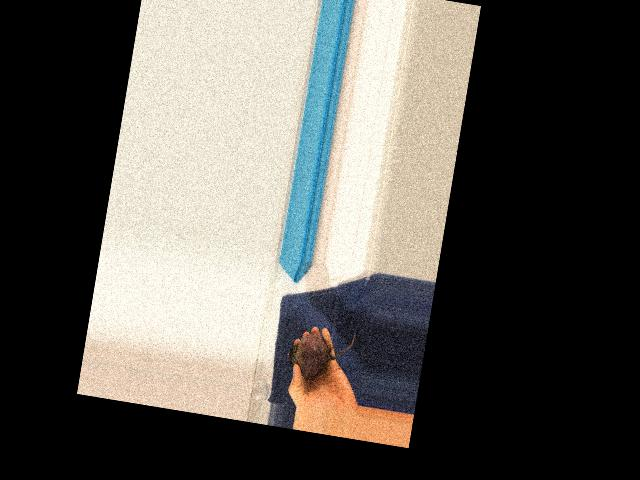beet: (284, 320, 356, 385)
